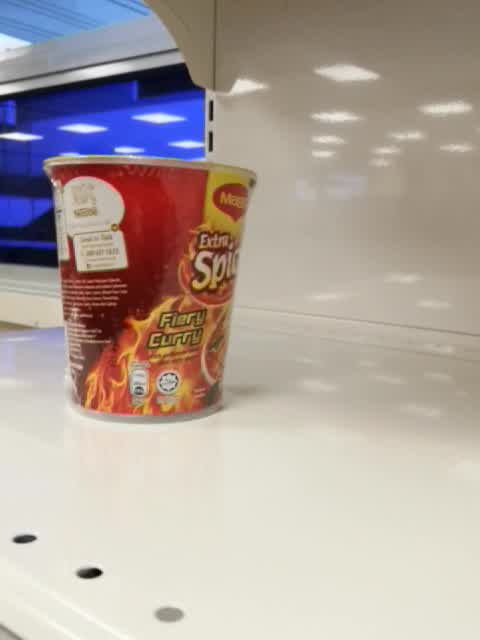maggi: (42, 156, 257, 426)
